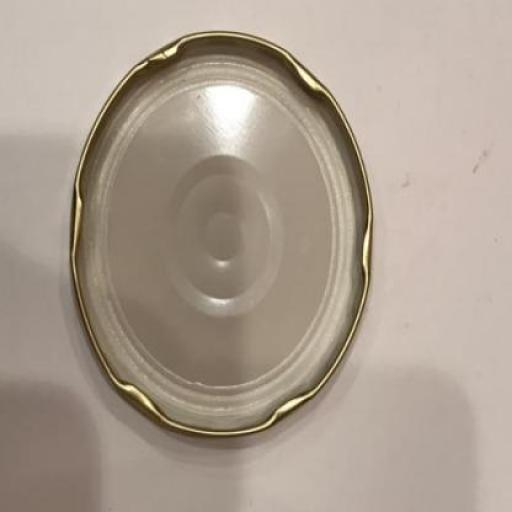metal: (72, 29, 374, 437)
